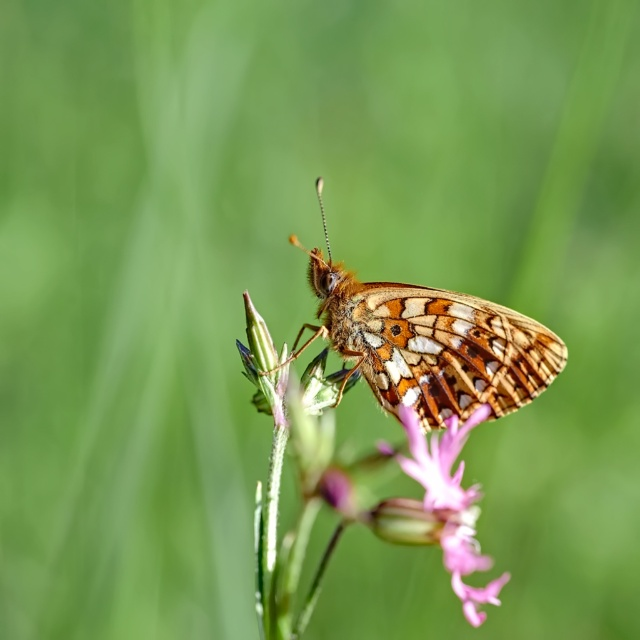Butterfly: (278, 182, 570, 436)
